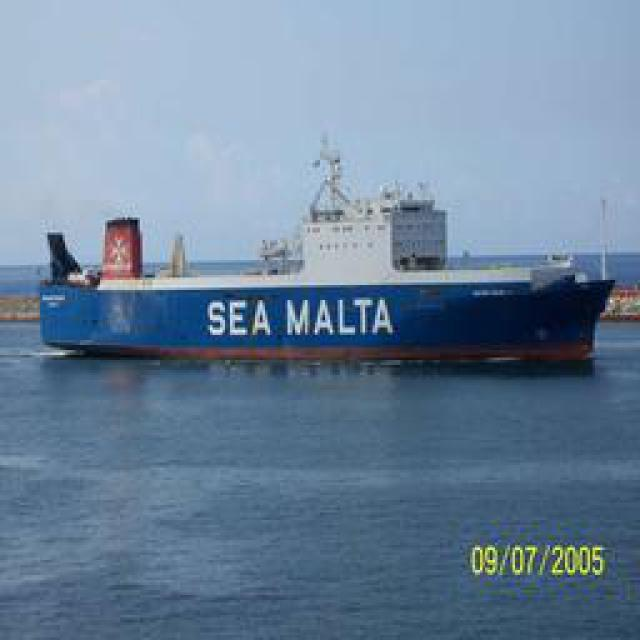Ship: (36, 130, 614, 363)
